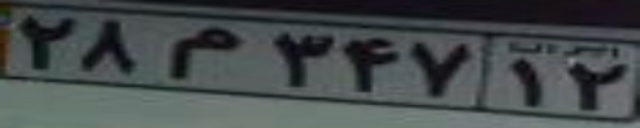1: (511, 59, 545, 105)
2: (17, 15, 75, 71), (566, 61, 627, 111)
3: (262, 33, 332, 87)
4: (341, 37, 399, 94)
7: (409, 41, 470, 97)
8: (80, 18, 136, 71)
mim: (166, 27, 242, 78)
